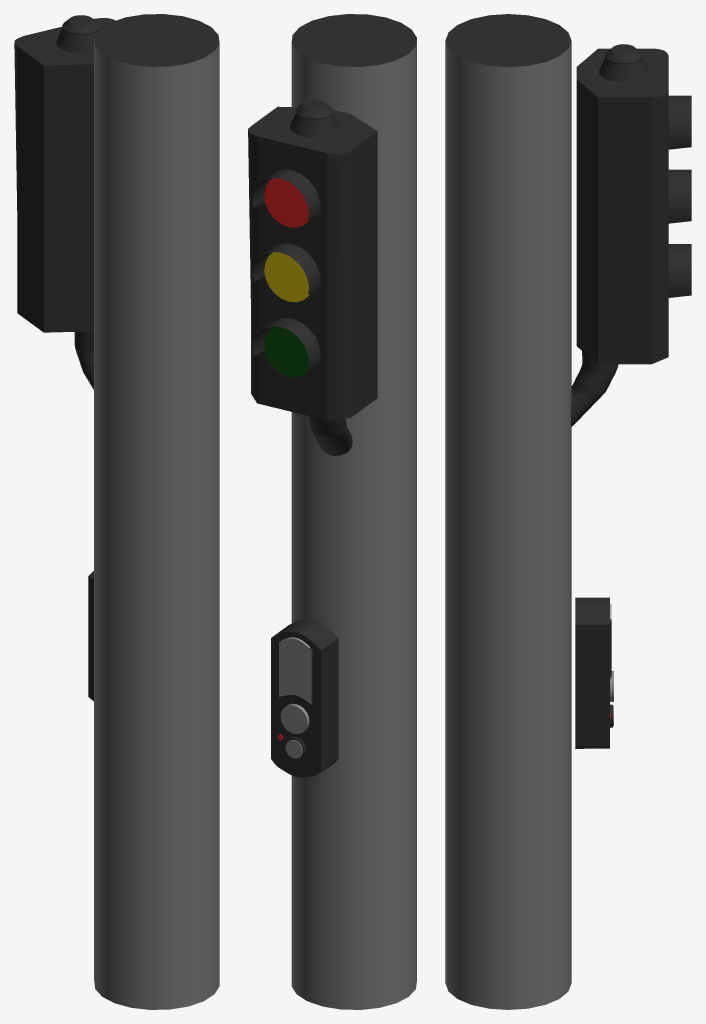
The model's file is TrafficLight.fbx.
The picture shows the model from 3 angles, left to right: view 1: azimuth 30°, elevation 25°; view 2: azimuth 150°, elevation 25°; view 3: azimuth 270°, elevation 25°; orthographic projection.
Visible parts, largest first — view 1: pCylinder2, pCube1, pCylinder3, pCylinder8, pCube3; view 2: pCylinder2, pCube1, pCube3, pCube2, pSphere1, pSphere2, pSphere3, pCylinder3, pCylinder8, pCylinder4, pCylinder5, pCylinder6 (+1 smaller); view 3: pCylinder2, pCube1, pCube3, pCylinder8, pCylinder3, pCylinder4, pCylinder5, pCylinder6.
Boxes of the visible parts, <box> form: pCylinder2: <box>94,14,219,1009</box>; pCube1: <box>14,18,115,332</box>; pCylinder3: <box>56,15,99,53</box>; pCylinder8: <box>74,331,93,389</box>; pCube3: <box>88,571,93,701</box>; pCylinder2: <box>291,14,416,1009</box>; pCube1: <box>248,106,377,420</box>; pCube3: <box>271,619,338,777</box>; pCube2: <box>279,637,312,707</box>; pSphere1: <box>264,326,310,377</box>; pSphere2: <box>264,252,309,302</box>; pSphere3: <box>264,178,309,227</box>; pCylinder3: <box>290,99,339,137</box>; pCylinder8: <box>309,416,352,455</box>; pCylinder4: <box>252,169,320,220</box>; pCylinder5: <box>252,243,320,294</box>; pCylinder6: <box>252,318,320,368</box>; pCylinder2: <box>445,14,571,1009</box>; pCube1: <box>576,48,668,364</box>; pCube3: <box>575,597,609,749</box>; pCylinder8: <box>570,351,618,426</box>; pCylinder3: <box>599,44,648,82</box>; pCylinder4: <box>668,95,691,149</box>; pCylinder5: <box>668,169,691,223</box>; pCylinder6: <box>668,244,691,297</box>.
Bounding box in the file's own units: 2.53 × 18.56 × 4.39.
3 materials, 2 textured.
